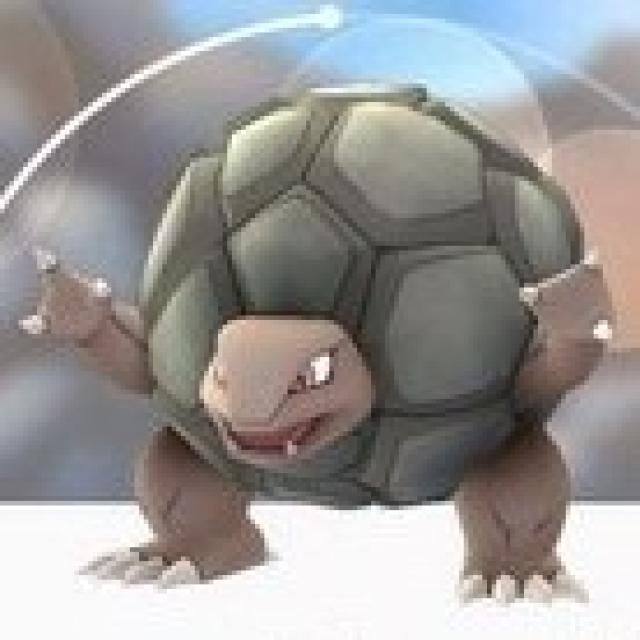Golem: (83, 79, 607, 596)
